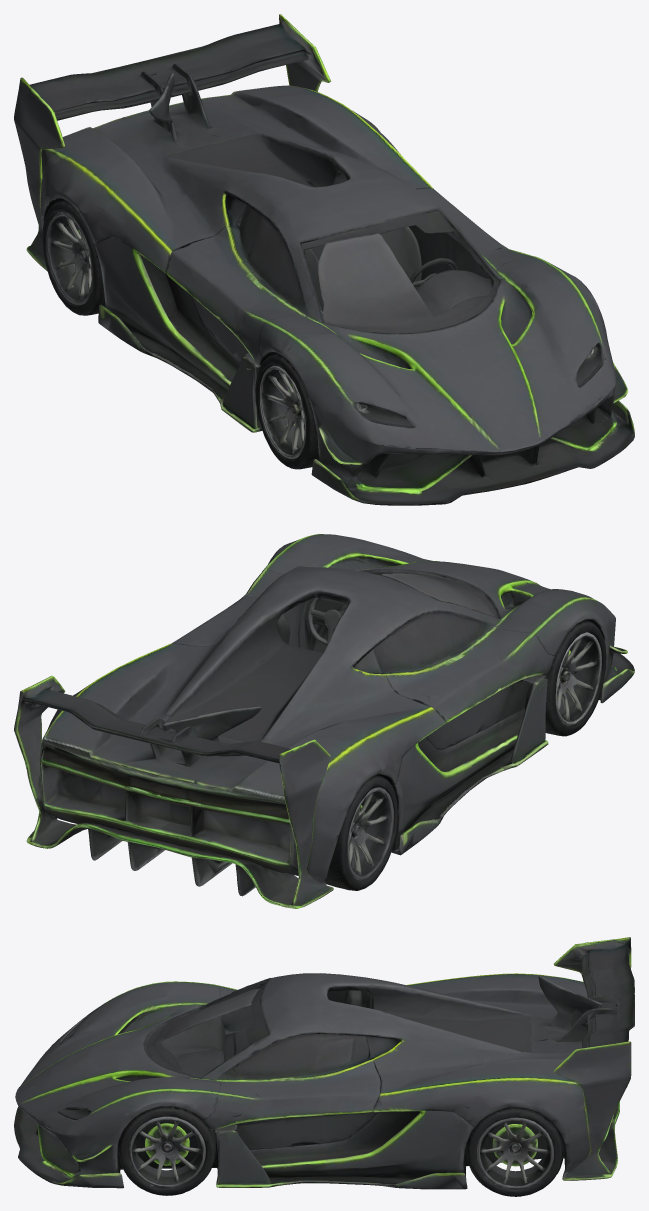
The model's file is phantom.glb.
3 views of the same model, one above another, from view 1: azimuth 30°, elevation 25°; view 2: azimuth 150°, elevation 25°; view 3: azimuth 270°, elevation 25° (orthographic). The views are drawn at different scales.
Parts seen in each view (by area): view 1: tripo_node_f74b9faa-f127-4bdb-99d2-e4607aac7019; view 2: tripo_node_f74b9faa-f127-4bdb-99d2-e4607aac7019; view 3: tripo_node_f74b9faa-f127-4bdb-99d2-e4607aac7019.
Boxes of the visible parts, x1,y1,x2,y2 form: tripo_node_f74b9faa-f127-4bdb-99d2-e4607aac7019: (14, 14, 634, 505); tripo_node_f74b9faa-f127-4bdb-99d2-e4607aac7019: (14, 534, 634, 908); tripo_node_f74b9faa-f127-4bdb-99d2-e4607aac7019: (14, 937, 634, 1196).
Size of the model in its own units: 0.4568 by 0.2592 by 0.9797.
Materials: 1 (1 with a texture image).
